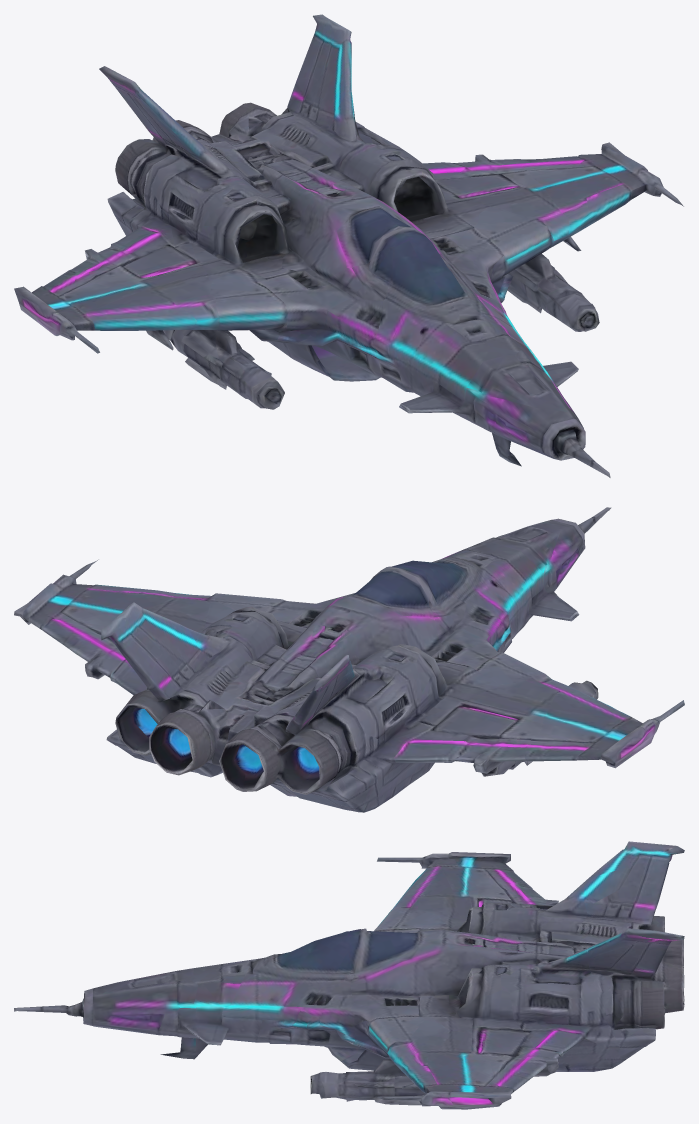
Rendered from ally-a.glb.
The picture shows the model from 3 angles, top to bottom: view 1: azimuth 30°, elevation 25°; view 2: azimuth 150°, elevation 25°; view 3: azimuth 270°, elevation 25°; orthographic projection. The views are drawn at different scales.
Parts seen in each view (by area): view 1: body; view 2: body; view 3: body.
Part boxes in pixels (x1=…): body: x1=14, y1=14, x2=683, y2=477; body: x1=14, y1=507, x2=684, y2=812; body: x1=14, y1=841, x2=684, y2=1109.
Bounding box in the file's own units: 0.8564 × 0.2846 × 0.9987.
Materials: 1 (1 with a texture image).
